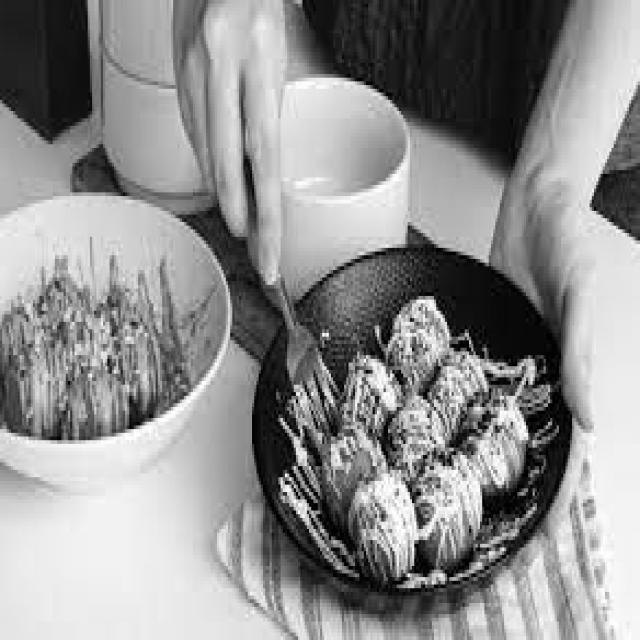dish: (237, 205, 592, 621)
